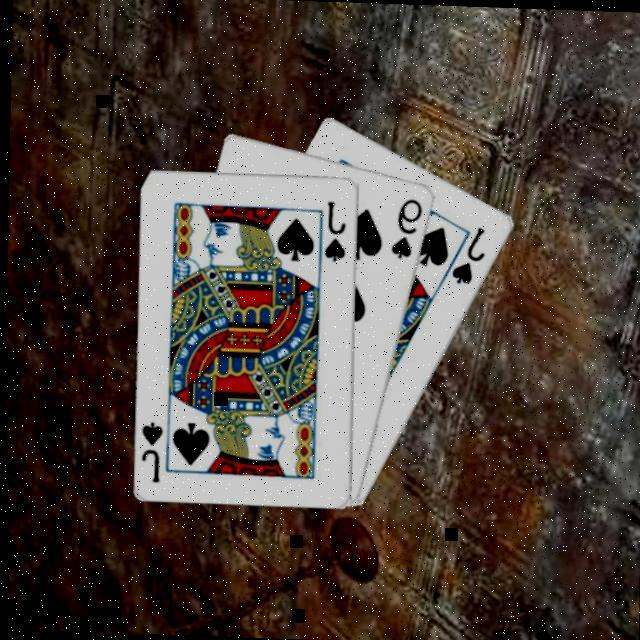9S: (386, 192, 427, 260)
JS: (448, 220, 490, 286), (320, 196, 350, 263), (136, 416, 166, 482)
